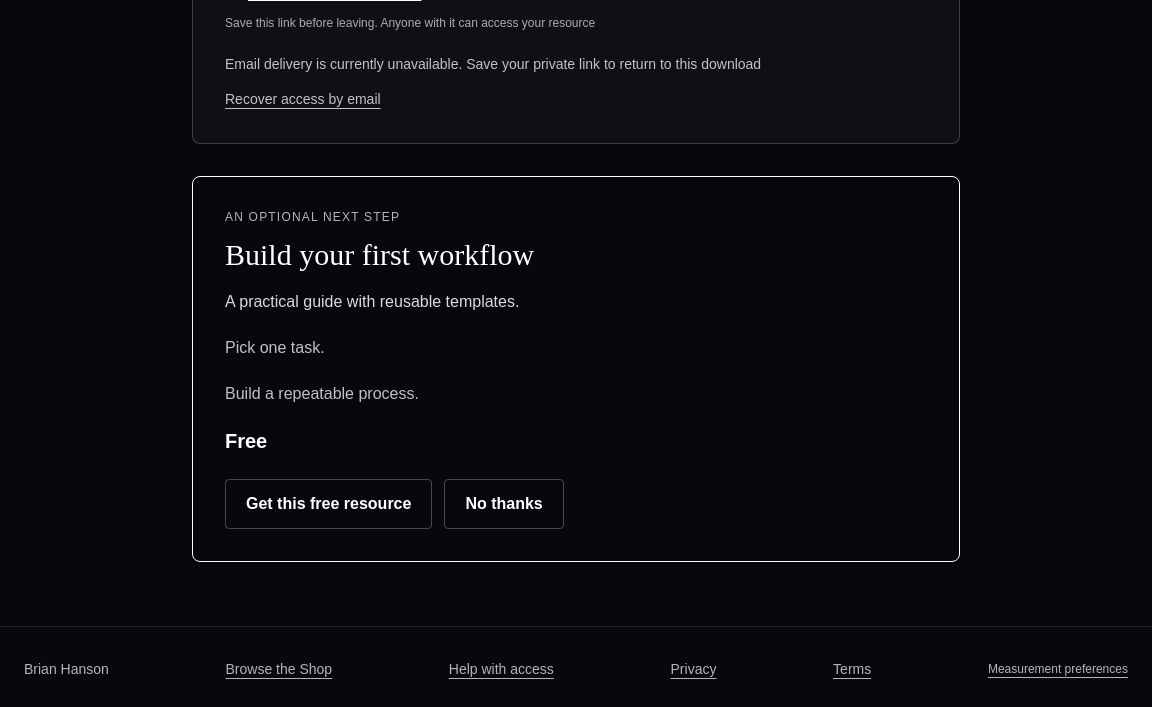
Test: offer visitor journey › records a decline only after its save succeeds
This screenshot has width=1152, height=707.
Later steps or results of the test are not shown.
(page scrolled)
Click the button "No thanks": (504, 504) [444,478,564,528]
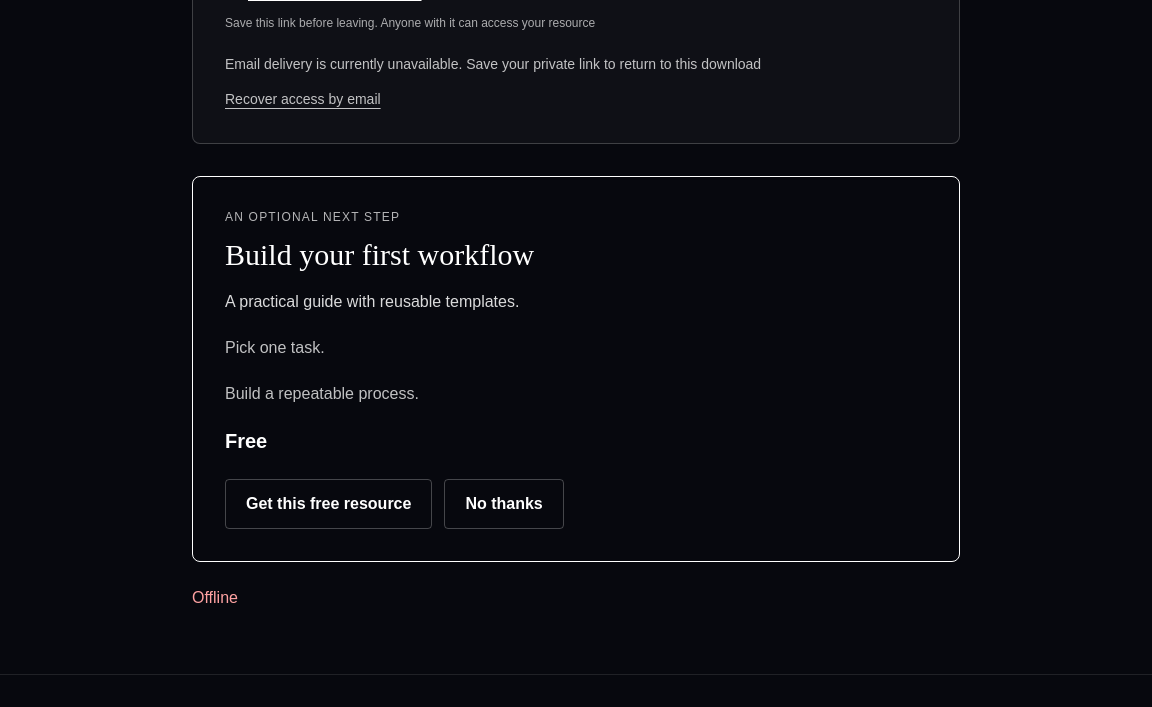
Check: the message "Offline" is shown, box [192,588,238,606]
